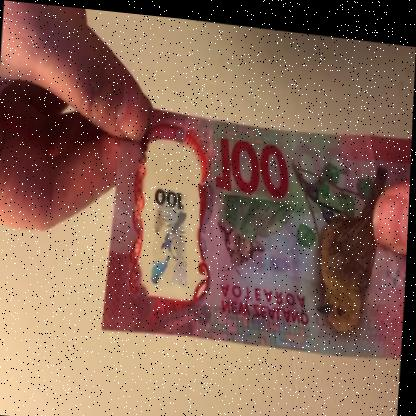100B: (146, 146, 200, 296)
